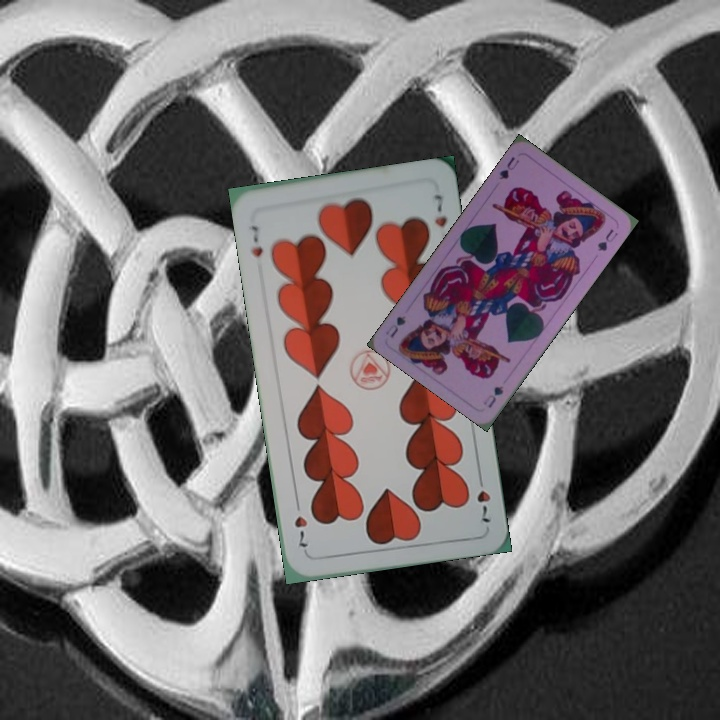GU: (495, 153, 522, 182), (479, 382, 506, 411)
H7: (473, 469, 493, 525), (247, 221, 265, 260)
